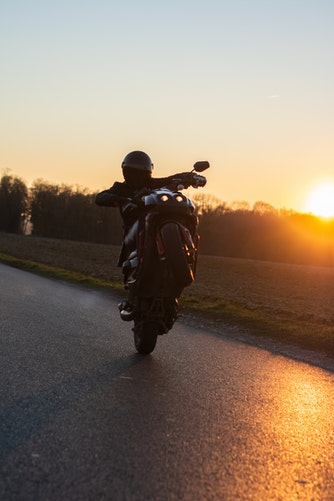helmet: (114, 150, 154, 175)
